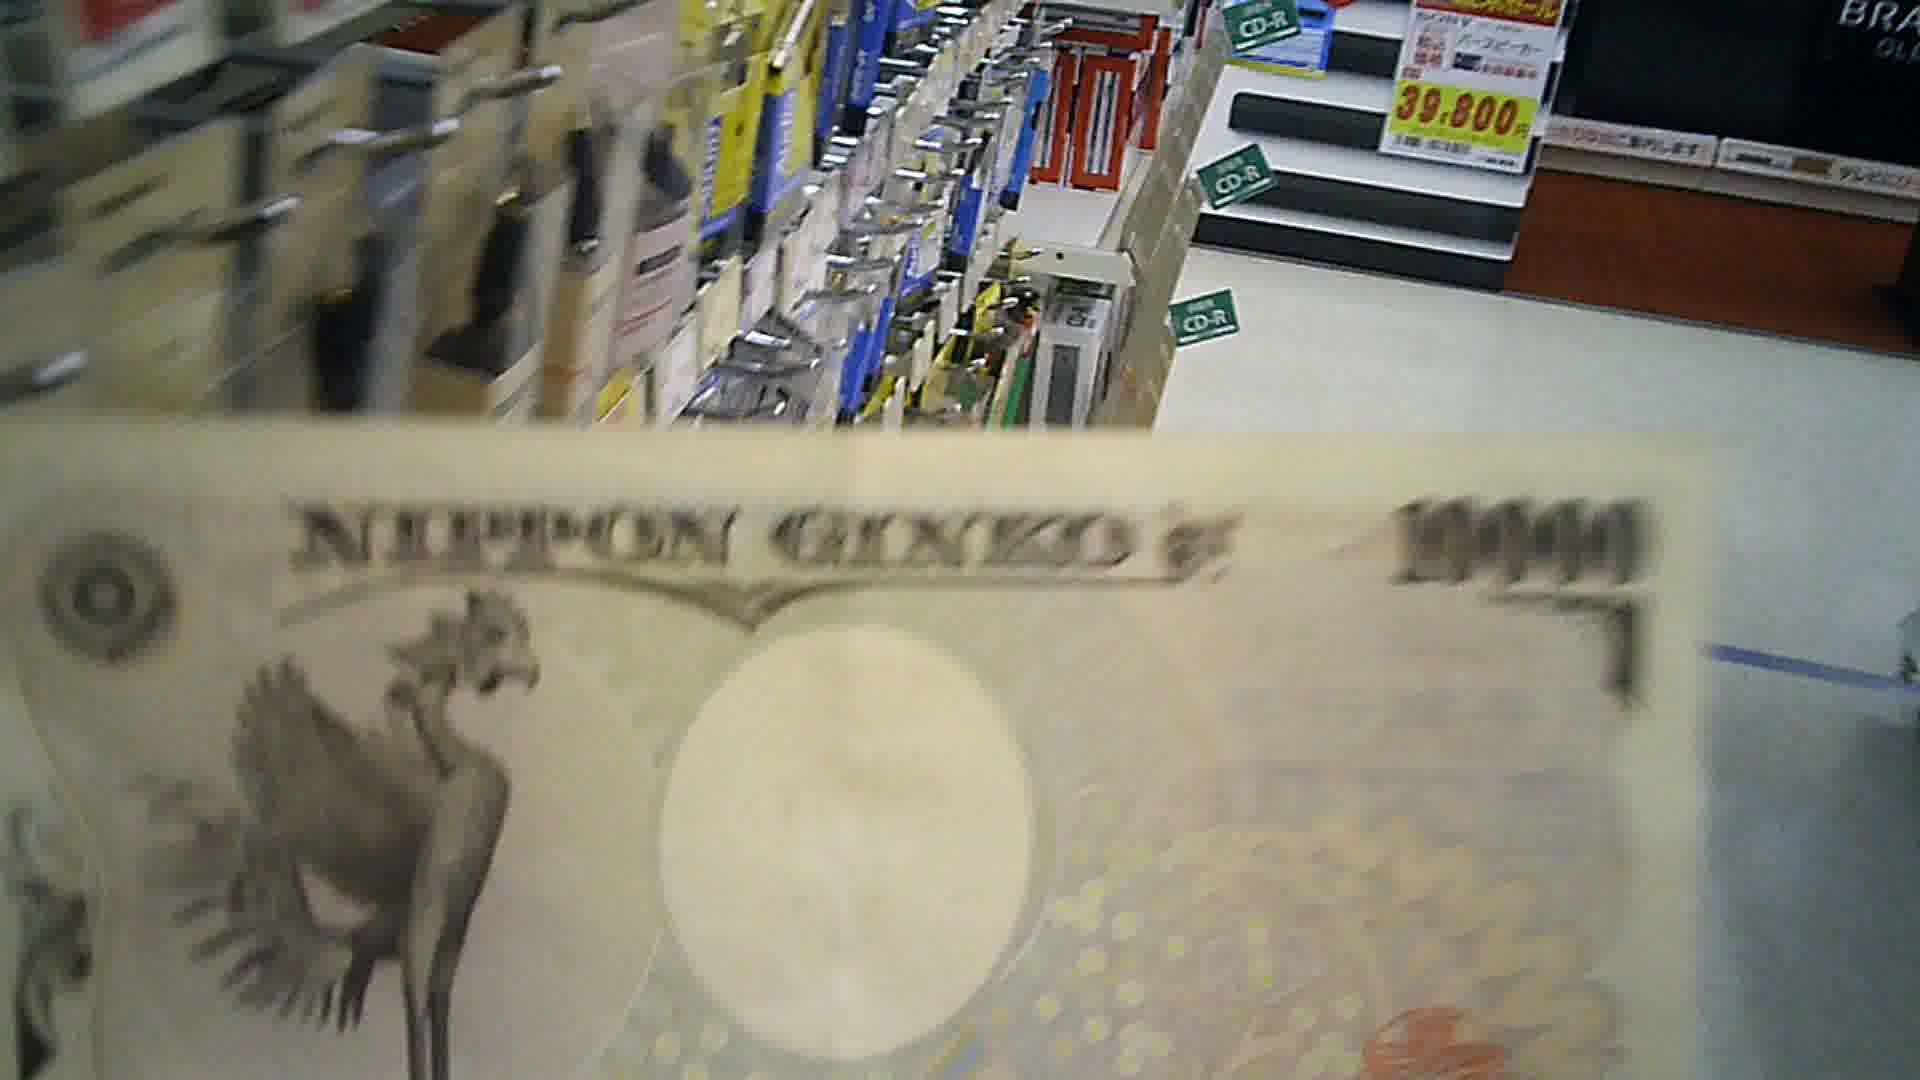10,000 Yen: (3, 353, 1693, 1058)
